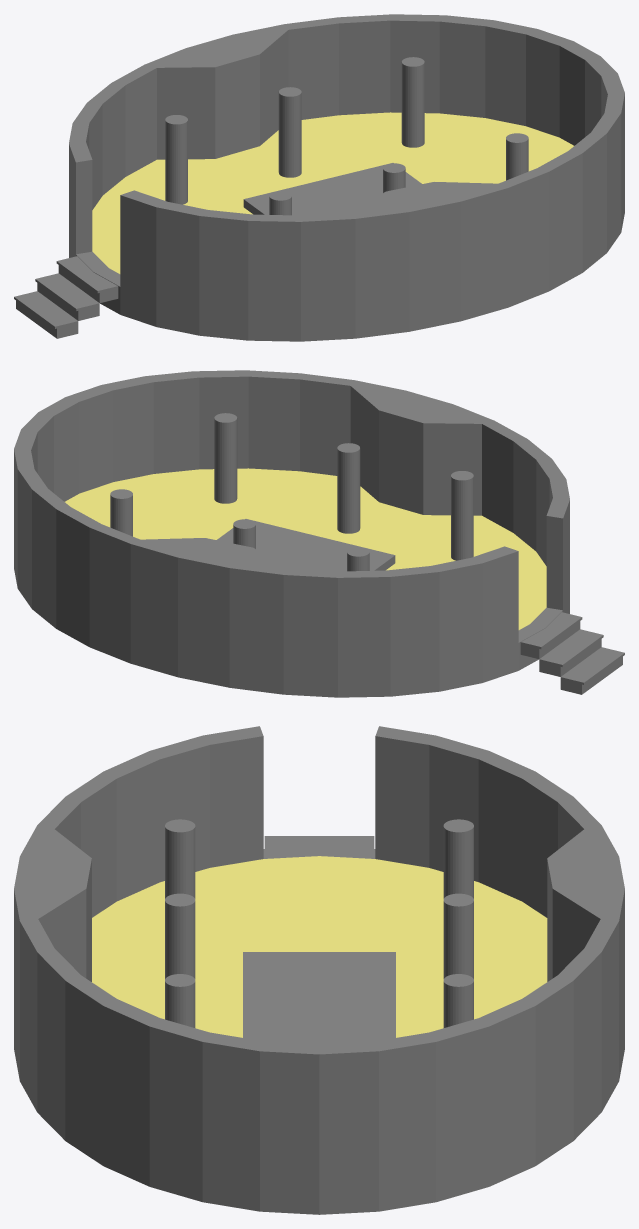
File: arena.fbx
3 views of the same model, one above another, from view 1: azimuth 30°, elevation 25°; view 2: azimuth 150°, elevation 25°; view 3: azimuth 270°, elevation 25° (orthographic). The views are drawn at different scales.
Visible parts, largest first — view 1: Cylinder, Ground, Cylinder.001, Stairs, Cube; view 2: Cylinder, Ground, Cylinder.001, Stairs, Cube; view 3: Cylinder, Ground, Cube, Cylinder.001, Stairs.
Boxes of the visible parts, x1,y1,x2,y2 form: Cylinder: [69, 14, 624, 341]; Ground: [92, 112, 573, 273]; Cylinder.001: [165, 57, 528, 215]; Stairs: [14, 256, 118, 338]; Cube: [243, 163, 421, 215]; Cylinder: [14, 370, 569, 697]; Ground: [65, 468, 546, 629]; Cylinder.001: [110, 413, 473, 571]; Stairs: [520, 612, 624, 694]; Cube: [216, 519, 395, 571]; Cylinder: [14, 726, 624, 1214]; Ground: [92, 856, 547, 1037]; Cube: [243, 952, 395, 1044]; Cylinder.001: [165, 819, 473, 1027]; Stairs: [264, 836, 374, 848].
Bounding box in the file's own units: 287 × 62.92 × 200.
